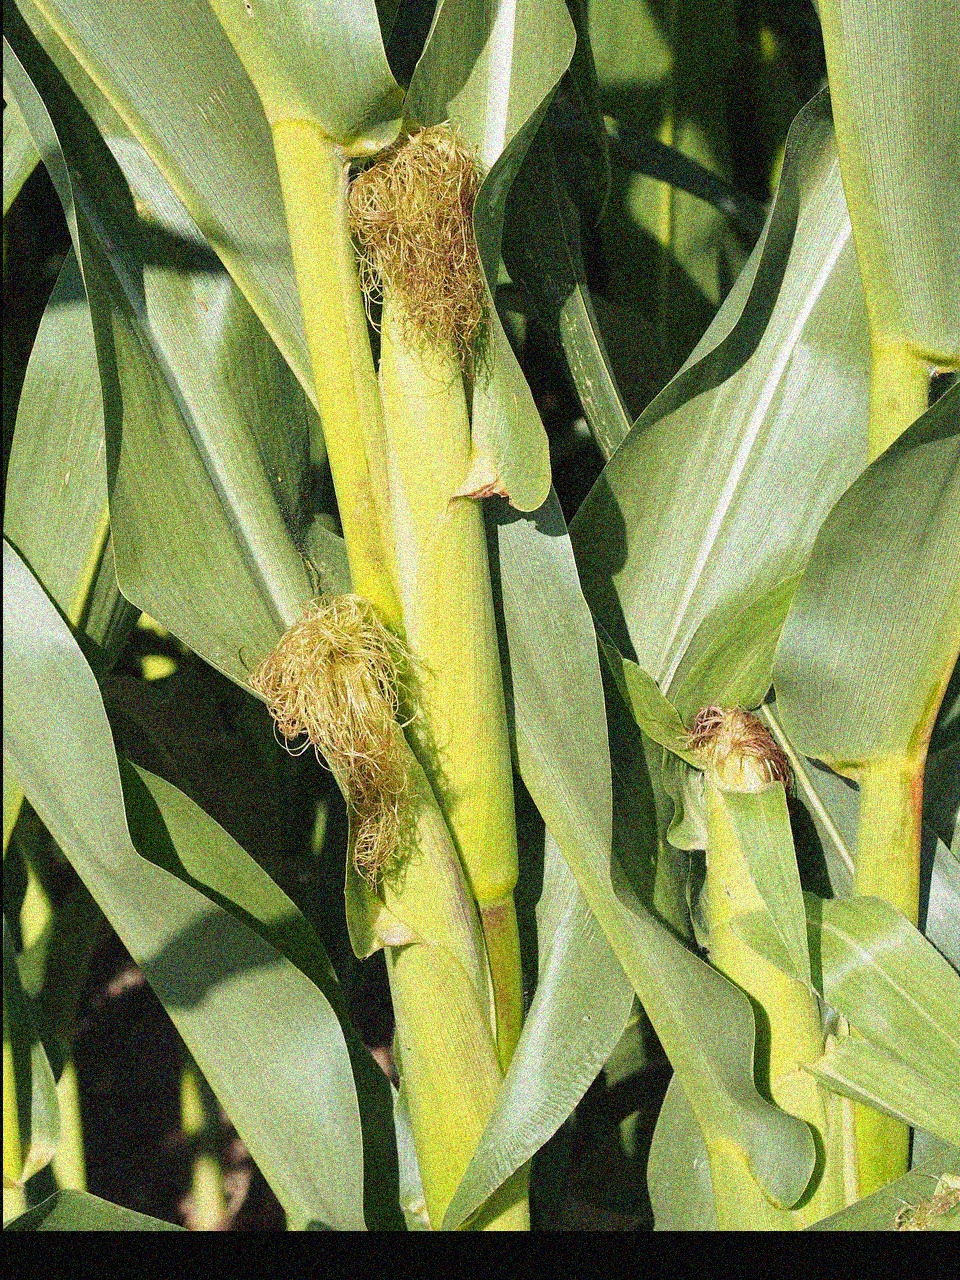corn_plant: (264, 628, 520, 1231), (340, 157, 527, 933)
